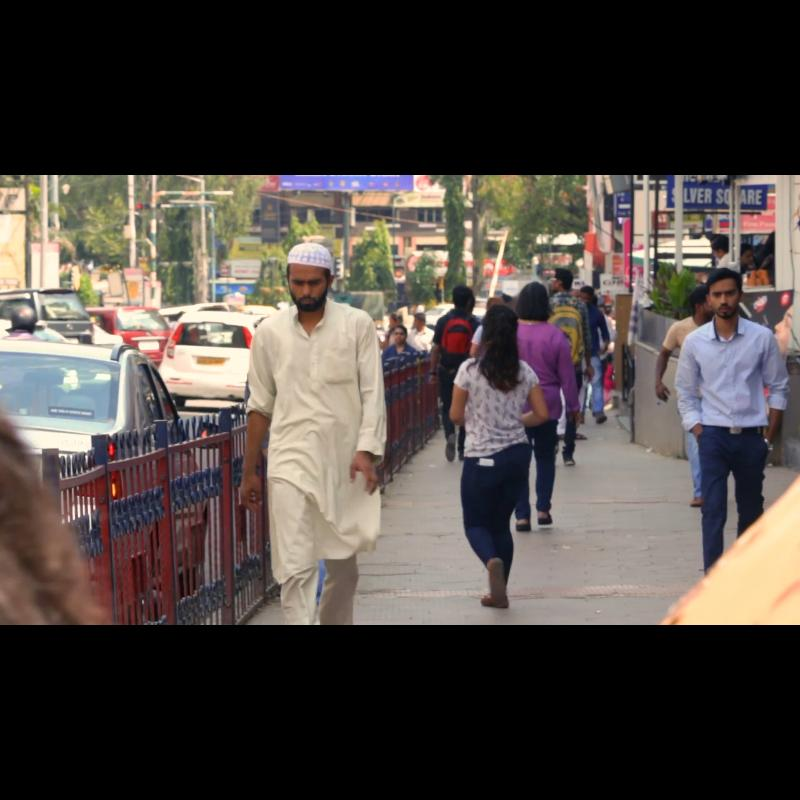Churidaar: (244, 300, 383, 625)
Jeans: (702, 422, 763, 574), (462, 444, 532, 574)
Shirt: (675, 314, 788, 430)
Tshirt: (452, 350, 542, 454)
